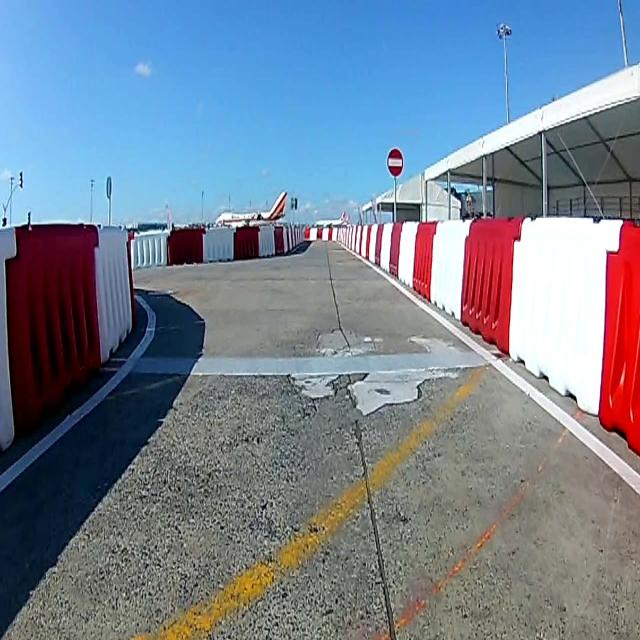girisyok: (387, 147, 403, 177)
